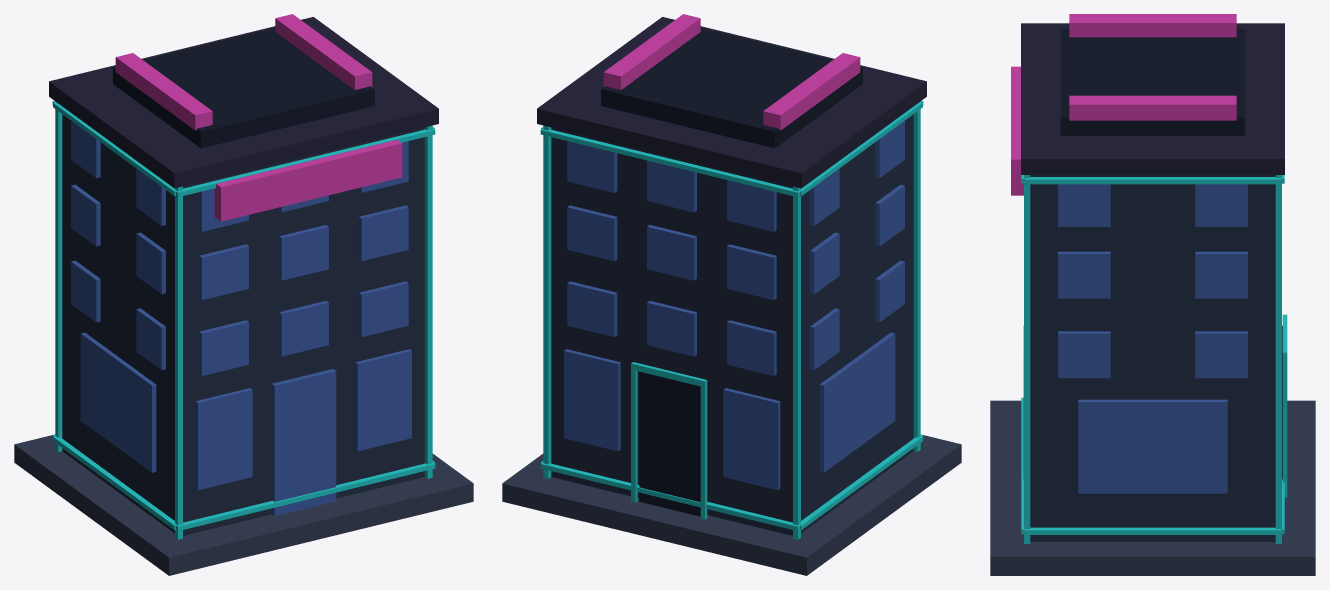
Rendered from Neon_DataTower_Standard.glb.
3 views of the same model, side by side, from view 1: azimuth 30°, elevation 25°; view 2: azimuth 150°, elevation 25°; view 3: azimuth 270°, elevation 25° (orthographic). The views are drawn at different scales.
Visible parts, largest first — view 1: Neon_DataTower_Standard; view 2: Neon_DataTower_Standard; view 3: Neon_DataTower_Standard.
Boxes of the visible parts, x1,y1,x2,y2 form: Neon_DataTower_Standard: (14,14,473,575); Neon_DataTower_Standard: (502,14,961,575); Neon_DataTower_Standard: (990,14,1315,575).
Size of the model in its own units: 4.2 by 5.5 by 3.7.
